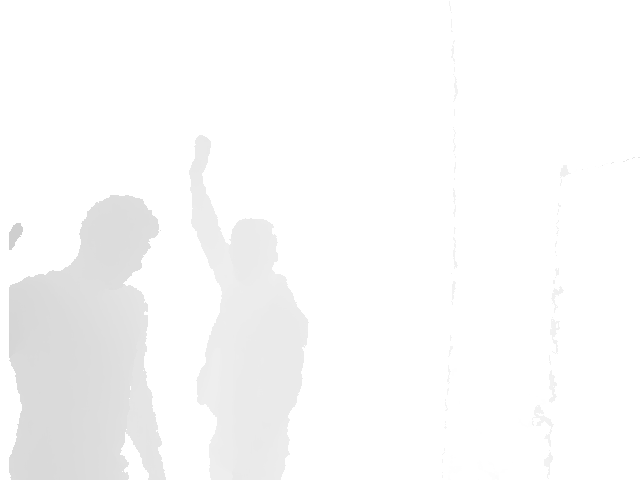hand: (188, 135, 212, 181)
head: (73, 195, 159, 287), (228, 217, 278, 298)
person: (9, 195, 168, 480), (188, 135, 311, 480)
